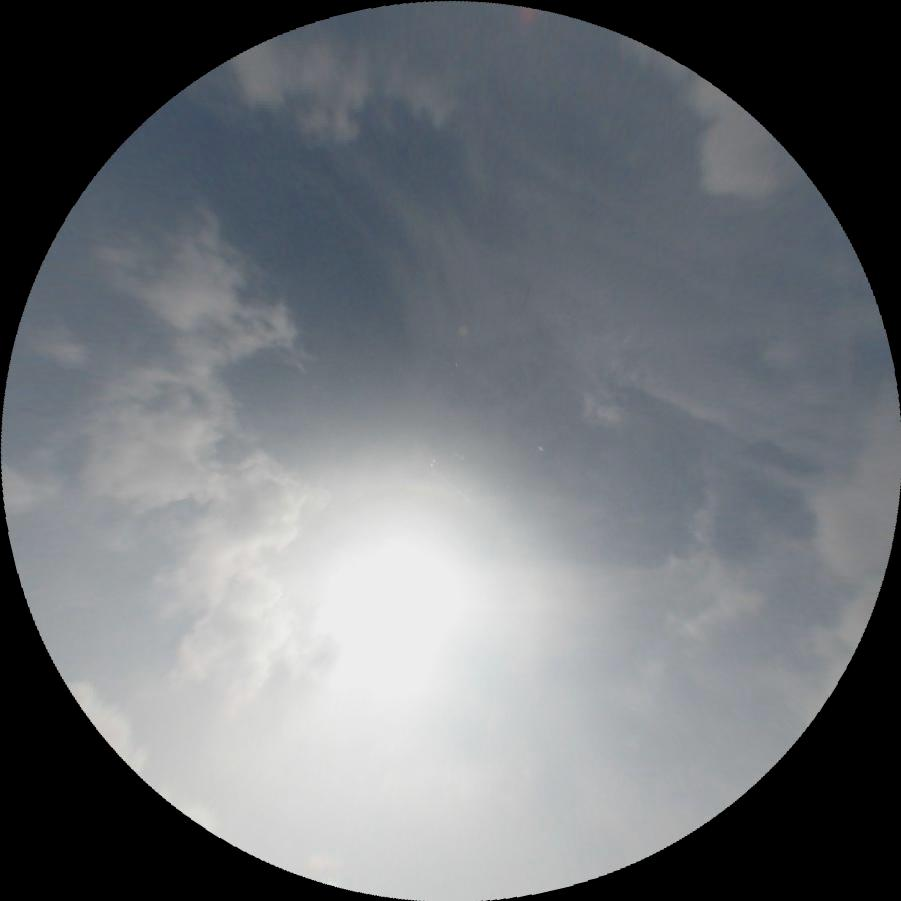contrail young: (431, 467, 469, 502)
sun: (308, 526, 492, 712)
